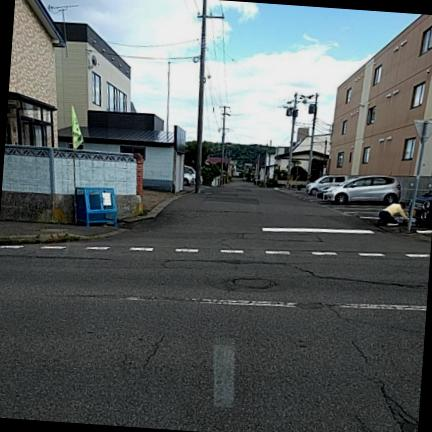Road: (0, 183, 430, 431)
